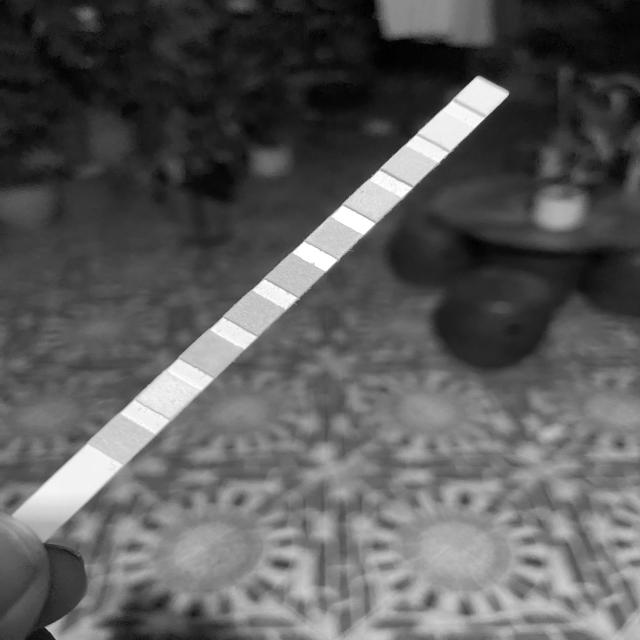Bilirubin: (151, 383, 184, 409)
Blood: (277, 266, 312, 287)
Glucose: (104, 427, 139, 452)
Ketone: (195, 343, 228, 367)
Leukocytes: (466, 86, 498, 106)
Nitrite: (432, 121, 461, 141)
Protein: (358, 191, 388, 213)
SpGravity: (238, 302, 272, 326)
Urobilinogen: (394, 157, 425, 175)
background: (0, 0, 640, 640)
pH: (316, 229, 351, 248)
strip: (15, 75, 511, 534)
